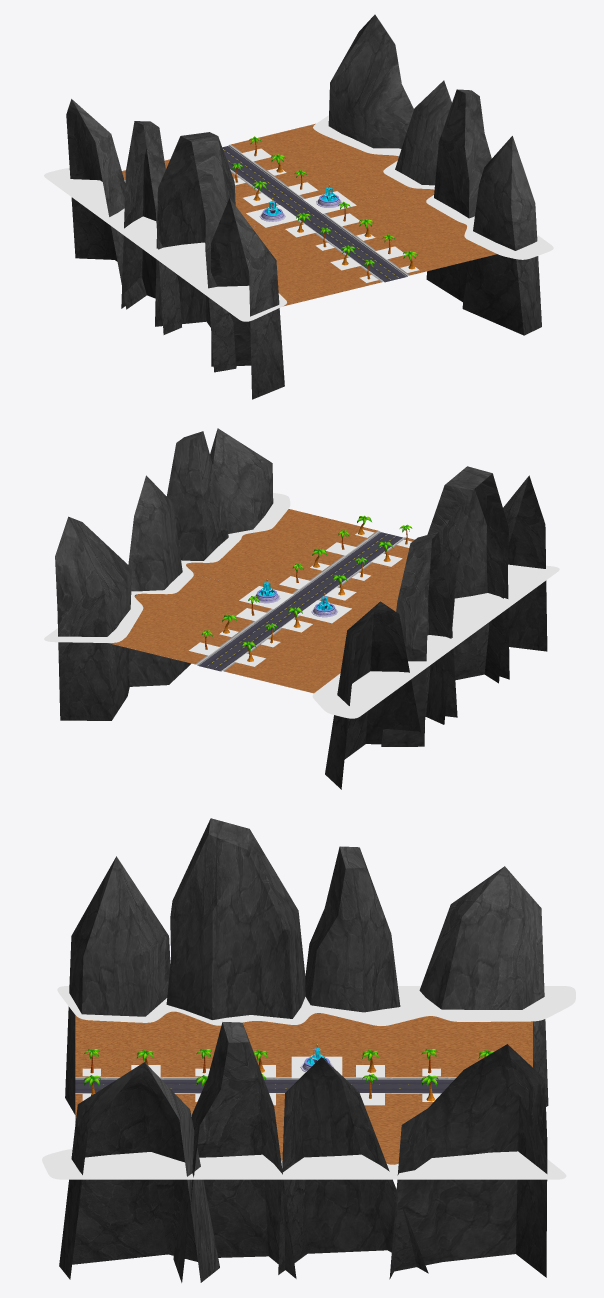
Rendered from Mexico_03.fbx.
The picture shows the model from 3 angles, top to bottom: view 1: azimuth 30°, elevation 25°; view 2: azimuth 150°, elevation 25°; view 3: azimuth 270°, elevation 25°; orthographic projection. The views are drawn at different scales.
Visible parts, largest first — view 1: Mexico_03; view 2: Mexico_03; view 3: Mexico_03.
Part boxes in pixels (x1,y1,x2,y2): Mexico_03: (44,14,553,399); Mexico_03: (44,428,559,789); Mexico_03: (42,818,575,1282).
Size of the model in its own units: 22617 by 13384 by 25170.
Materials: 9 (9 with a texture image).
